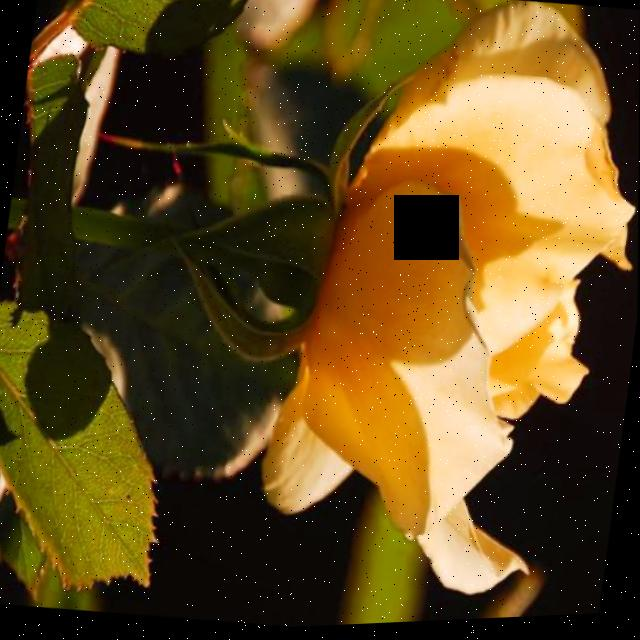rose: (162, 0, 640, 634)
